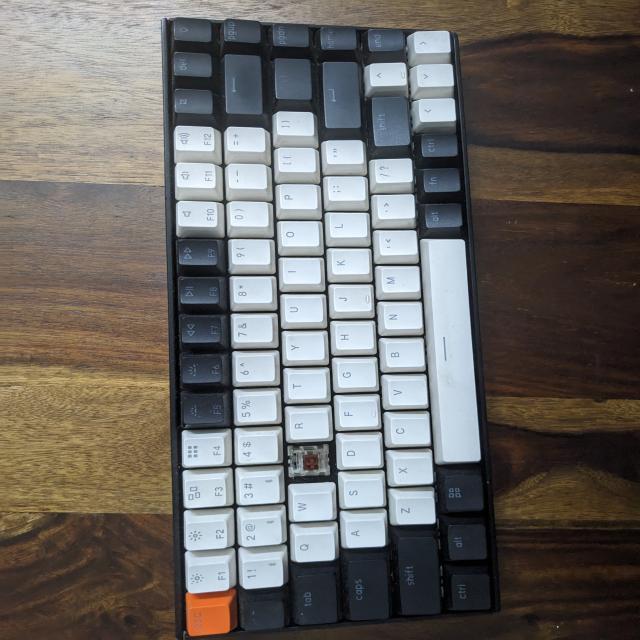key-switch: (289, 445, 335, 483)
